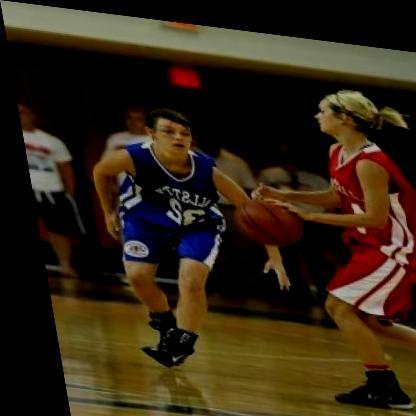basketball: (220, 182, 308, 250)
